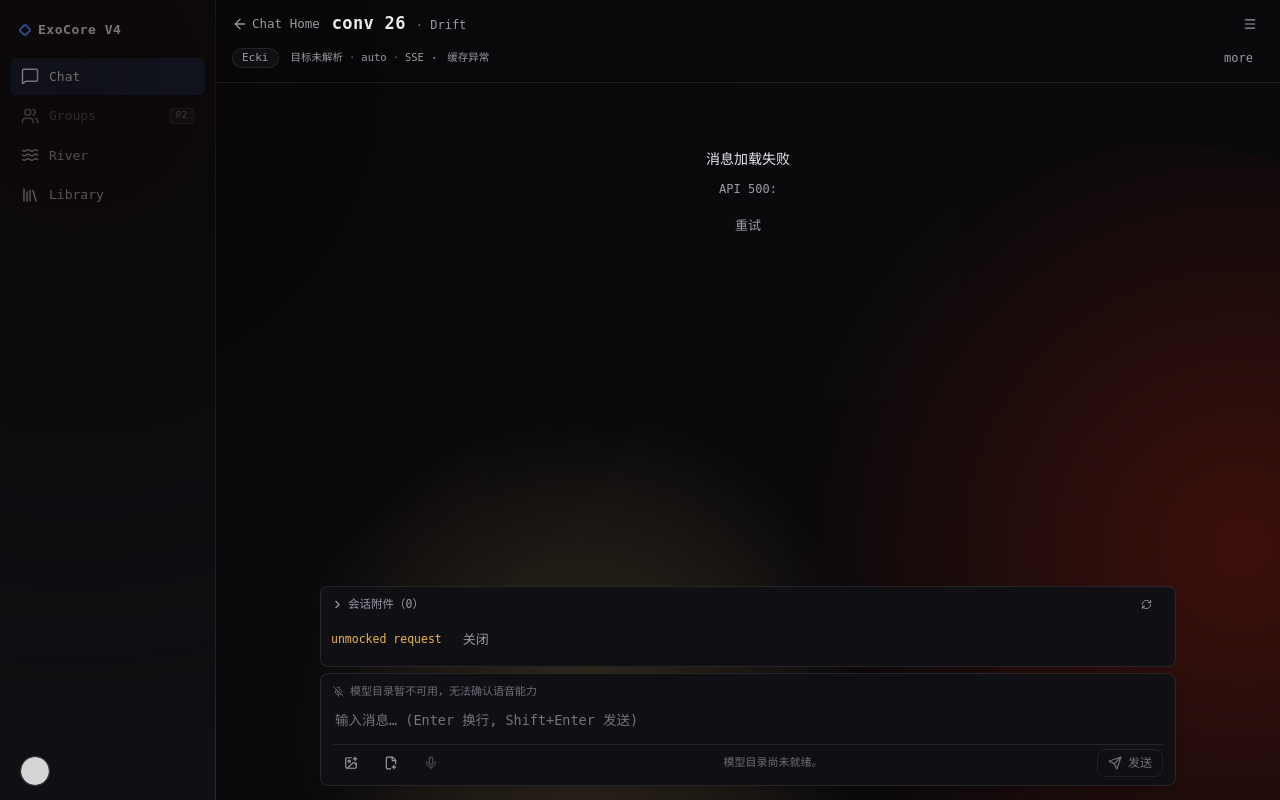
Test: canonical read path — timeline & paging › message fetch failure shows error + retry that recovers
expect the text "消息加载失败" is shown: met, box [706,149,790,170]
Click the button "重试" at (748, 226), box [720,208,776,244]
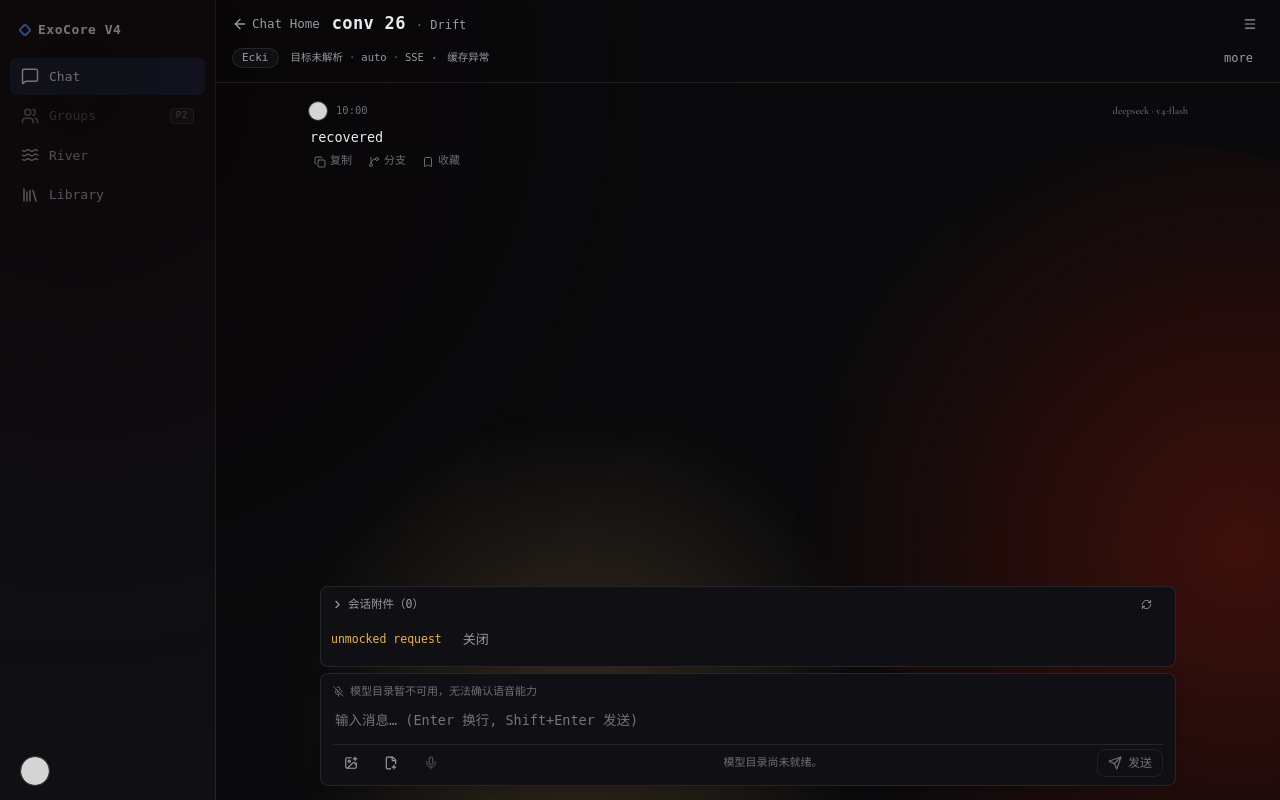
expect the text "recovered" is shown: met, box [310,129,383,145]
